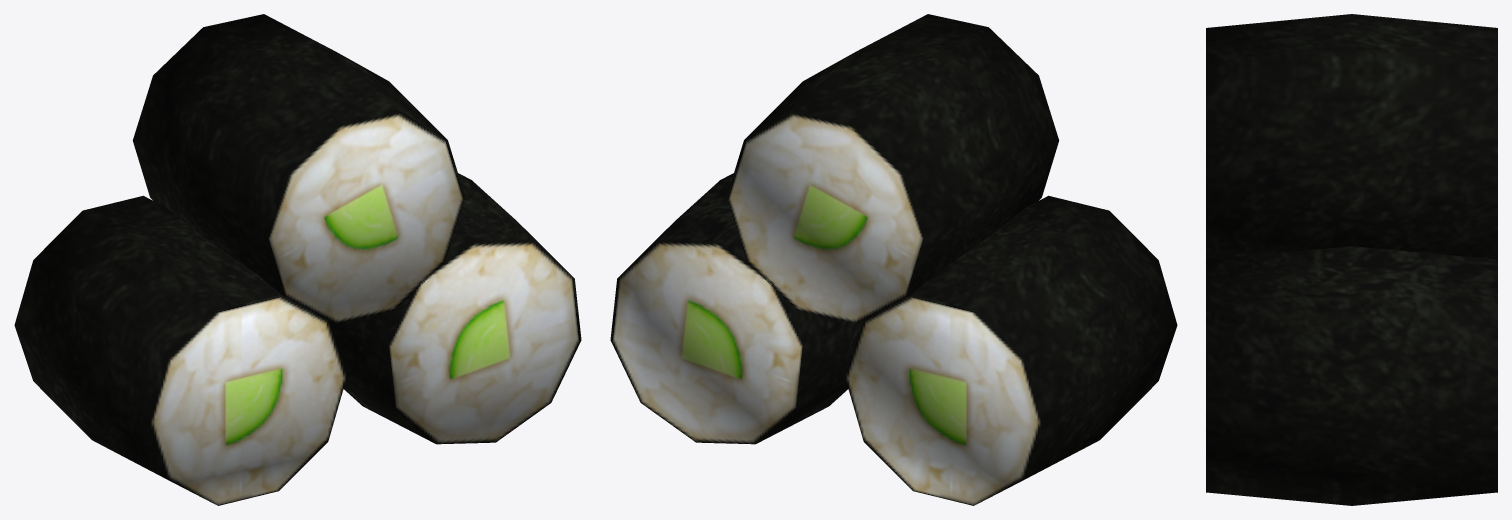
Rendered from kappa.fbx.
3 renders of one model, left to right at view 1: azimuth 30°, elevation 25°; view 2: azimuth 150°, elevation 25°; view 3: azimuth 270°, elevation 25°, orthographic. The views are drawn at different scales.
Parts seen in each view (by area): view 1: kappa; view 2: kappa; view 3: kappa.
Boxes of the visible parts, left/top/right/bottom form: kappa: left=14, top=14, right=581, bottom=505; kappa: left=610, top=14, right=1177, bottom=505; kappa: left=1206, top=14, right=1497, bottom=505.
Size of the model in its own units: 1.96 by 1.56 by 1.01.
1 material, 1 textured.
